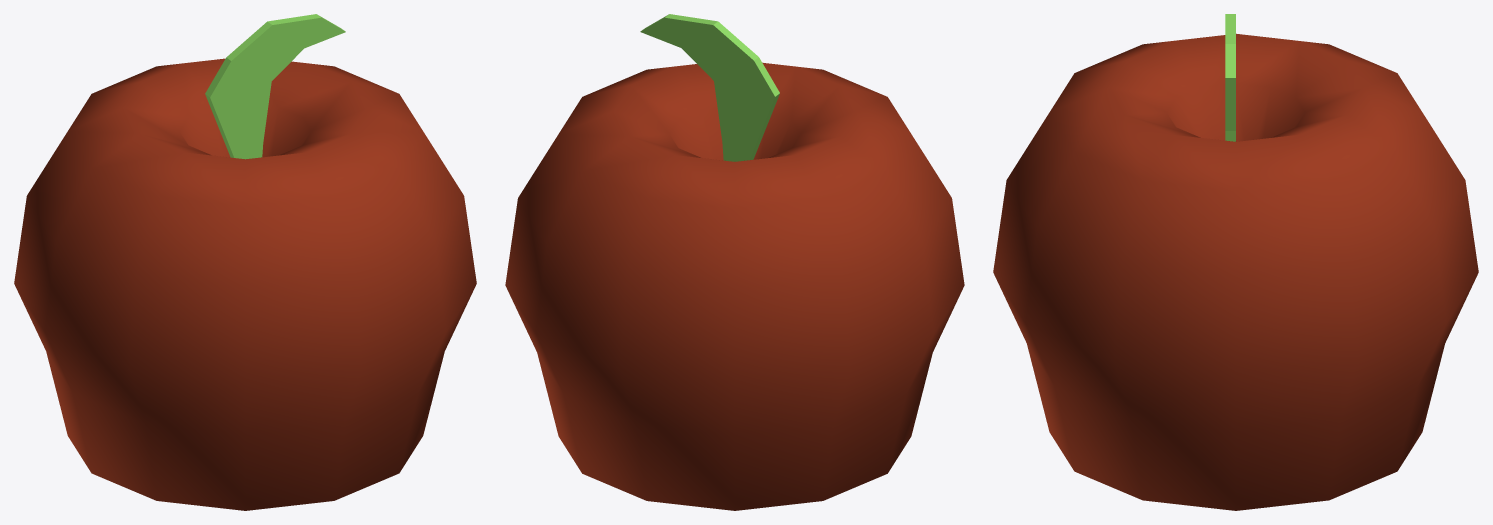
Rendered from apple.glb.
3 renders of one model, left to right at view 1: azimuth 30°, elevation 25°; view 2: azimuth 150°, elevation 25°; view 3: azimuth 270°, elevation 25°, orthographic. The views are drawn at different scales.
Parts seen in each view (by area): view 1: Torus001, Plane001; view 2: Torus001, Plane001; view 3: Torus001, Plane001.
Boxes of the visible parts, bbox=[...] form: Torus001: bbox=[14, 58, 476, 510]; Plane001: bbox=[205, 14, 345, 159]; Torus001: bbox=[505, 62, 964, 510]; Plane001: bbox=[640, 14, 779, 161]; Torus001: bbox=[993, 33, 1478, 510]; Plane001: bbox=[1225, 14, 1235, 141].
Size of the model in its own units: 0.0317 by 0.0327 by 0.0317.
